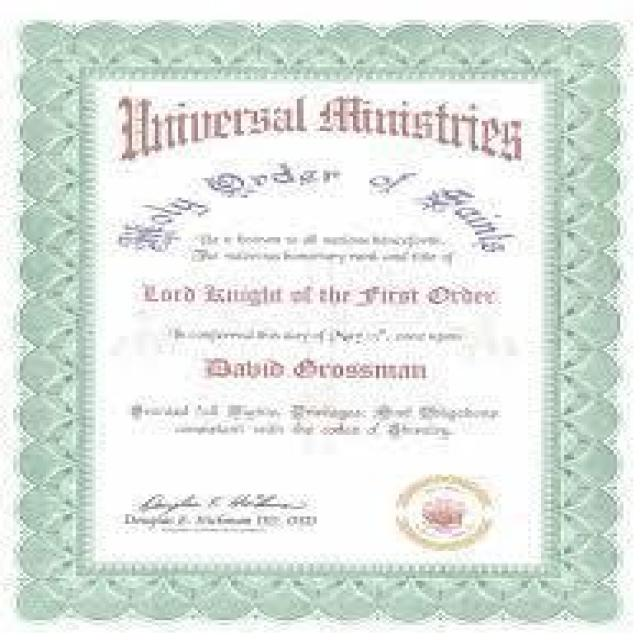signature: (135, 489, 307, 514)
